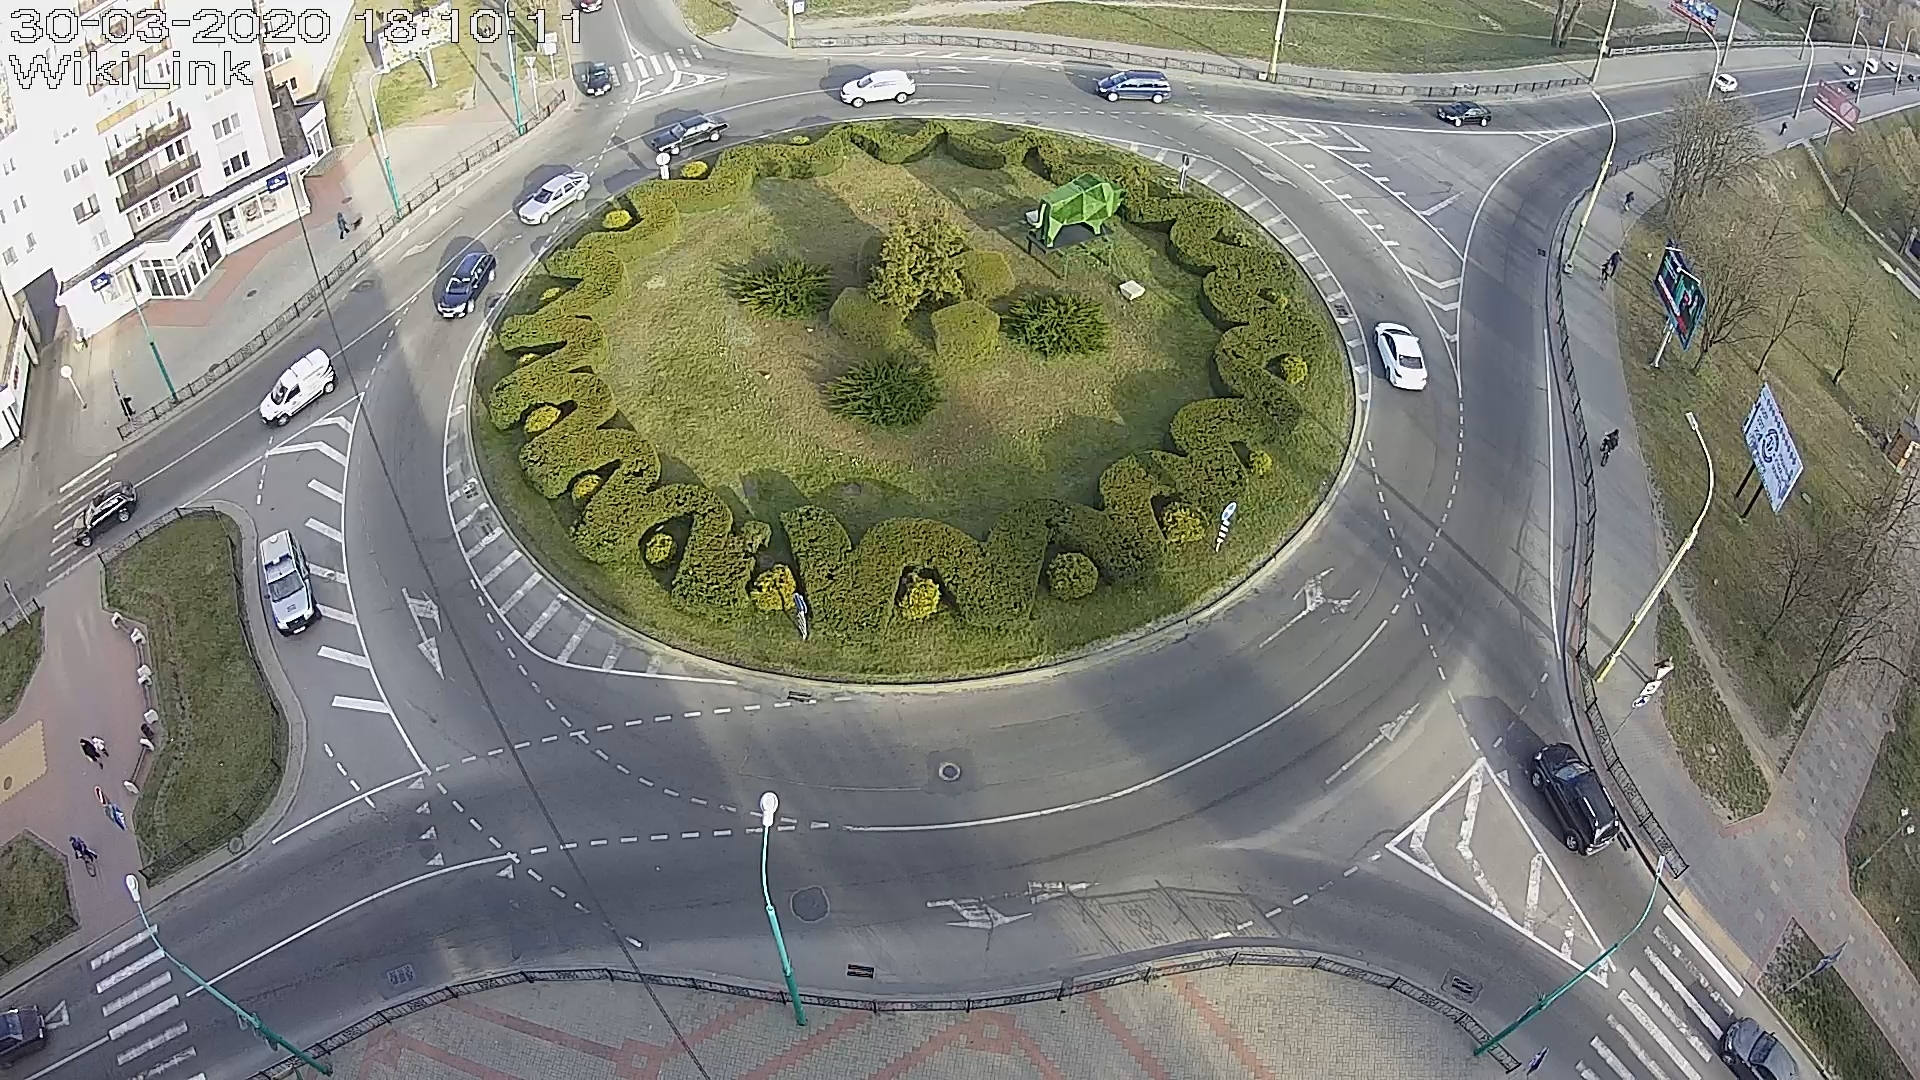car: (1530, 742, 1619, 857), (258, 529, 322, 638), (258, 348, 339, 427), (73, 477, 138, 549), (436, 251, 497, 319), (517, 170, 591, 225), (1371, 320, 1428, 392), (651, 113, 731, 156), (840, 69, 916, 108), (1095, 69, 1172, 103), (1437, 100, 1491, 127), (585, 61, 612, 98)
